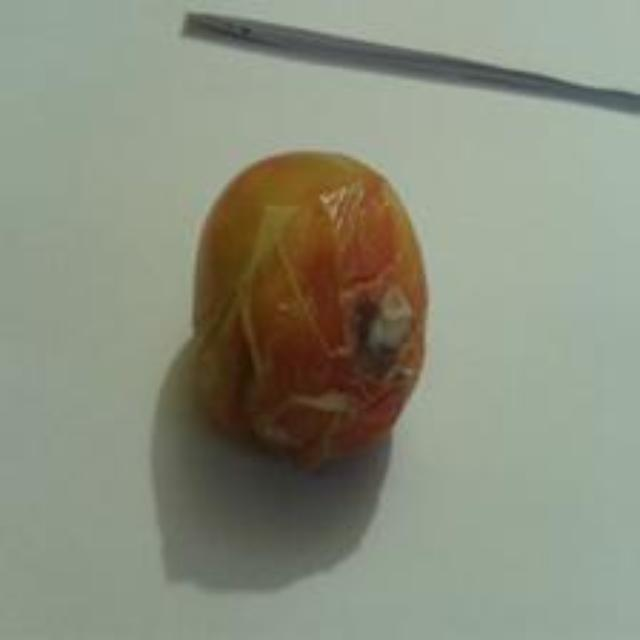defect: (175, 124, 457, 493)
